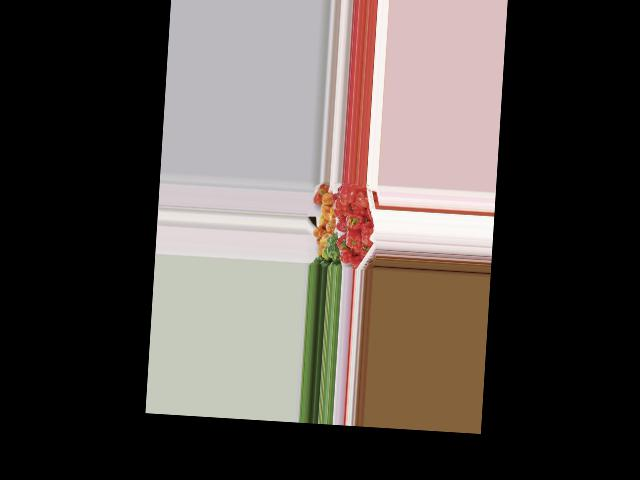bell_pepper: (360, 220, 375, 246)
